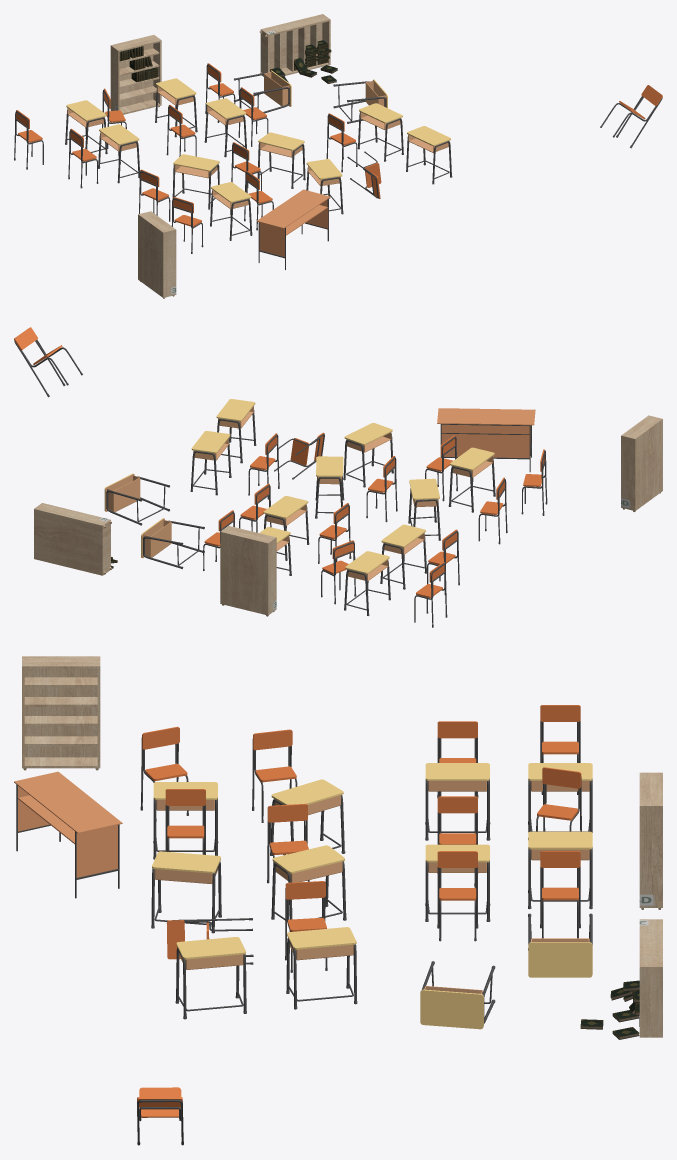
Rendered from Salon n2.fbx.
The picture shows the model from 3 angles, top to bottom: view 1: azimuth 30°, elevation 25°; view 2: azimuth 150°, elevation 25°; view 3: azimuth 270°, elevation 25°; orthographic projection. The views are drawn at different scales.
Parts seen in each view (by area): view 1: Cube.038, Bookcase, Bookcase.007, Mesa N41.001, Mesa N40.041, Mesa N40.043, Mesa N40.044, Mesa N40.042, Mesa N40.039, Mesa N40.049, Mesa N40.047, Mesa N40.046 (+17 smaller); view 2: Bookcase, Cube.038, Mesa N41.001, Bookcase.007, Mesa N40.045, Mesa N40.040, Mesa N40.046, Mesa N40.039, Mesa N40.050, Mesa N40.044, Mesa N40.049, Mesa N40.043 (+17 smaller); view 3: Bookcase.007, Mesa N41.001, Cube.038, Bookcase, Mesa N40.045, Mesa N40.046, Mesa N40.043, Mesa N40.044, Mesa N40.040, Mesa N40.041, Mesa N40.049, Mesa N40.042 (+17 smaller).
Part boxes in pixels (left/top/right/bottom): Cube.038: left=259, top=14, right=337, bottom=83; Bookcase: left=110, top=35, right=161, bottom=114; Bookcase.007: left=138, top=211, right=176, bottom=298; Mesa N41.001: left=256, top=189, right=330, bottom=269; Mesa N40.041: left=257, top=132, right=305, bottom=188; Mesa N40.043: left=406, top=126, right=452, bottom=184; Mesa N40.044: left=357, top=103, right=403, bottom=161; Mesa N40.042: left=172, top=154, right=219, bottom=209; Mesa N40.039: left=210, top=182, right=252, bottom=240; Mesa N40.049: left=98, top=124, right=139, bottom=183; Mesa N40.047: left=204, top=98, right=246, bottom=157; Mesa N40.046: left=234, top=70, right=291, bottom=113; Bookcase: left=220, top=525, right=276, bottom=616; Cube.038: left=34, top=503, right=117, bottom=575; Mesa N41.001: left=437, top=408, right=535, bottom=472; Bookcase.007: left=621, top=415, right=662, bottom=511; Mesa N40.045: left=104, top=473, right=169, bottom=525; Mesa N40.040: left=343, top=423, right=393, bottom=487; Mesa N40.046: left=141, top=518, right=204, bottom=569; Mesa N40.039: left=448, top=447, right=495, bottom=512; Mesa N40.050: left=344, top=551, right=390, bottom=615; Mesa N40.044: left=190, top=431, right=231, bottom=495; Mesa N40.049: left=380, top=524, right=426, bottom=589; Mesa N40.043: left=216, top=399, right=256, bottom=463; Bookcase.007: left=22, top=656, right=100, bottom=770; Mesa N41.001: left=14, top=771, right=122, bottom=898; Cube.038: left=580, top=919, right=662, bottom=1039; Bookcase: left=639, top=772, right=662, bottom=909; Mesa N40.045: left=420, top=961, right=495, bottom=1029; Mesa N40.046: left=528, top=913, right=592, bottom=977; Mesa N40.043: left=175, top=937, right=246, bottom=1019; Mesa N40.044: left=286, top=927, right=357, bottom=1009; Mesa N40.040: left=151, top=851, right=221, bottom=933; Mesa N40.041: left=271, top=845, right=346, bottom=931; Mesa N40.049: left=425, top=763, right=490, bottom=840; Mesa N40.042: left=270, top=779, right=345, bottom=855.
Size of the model in its own units: 1890 by 231 by 1265.
Materials: 9 (2 with a texture image).
